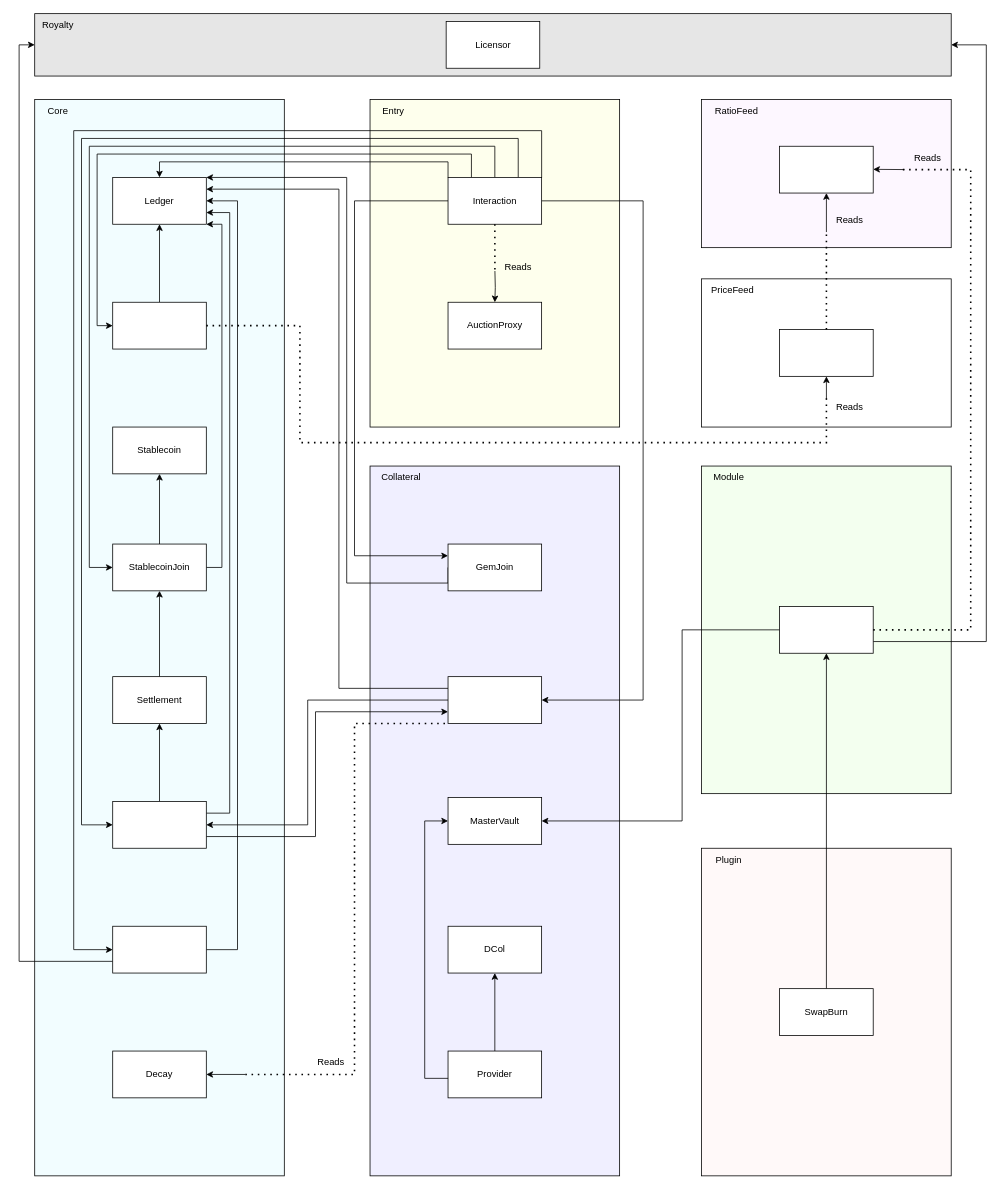
Image size: 1006x1190. Some labels were removed from this diagram. The shapes that lost their labels are listed below. From the top down, each one's centre as x and y in pixels, then its label:
the point at 826,169: PriceController
the point at 159,325: Vision
the point at 826,352: Oracle
the point at 826,629: YieldModule
the point at 494,699: Jail
the point at 159,824: Liquidator
the point at 159,949: Fee
